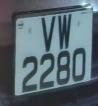0: (71, 45, 88, 84)
2: (17, 51, 41, 96), (38, 51, 57, 91)
8: (55, 48, 73, 87)
V: (39, 13, 58, 54)
W: (56, 11, 73, 52)
